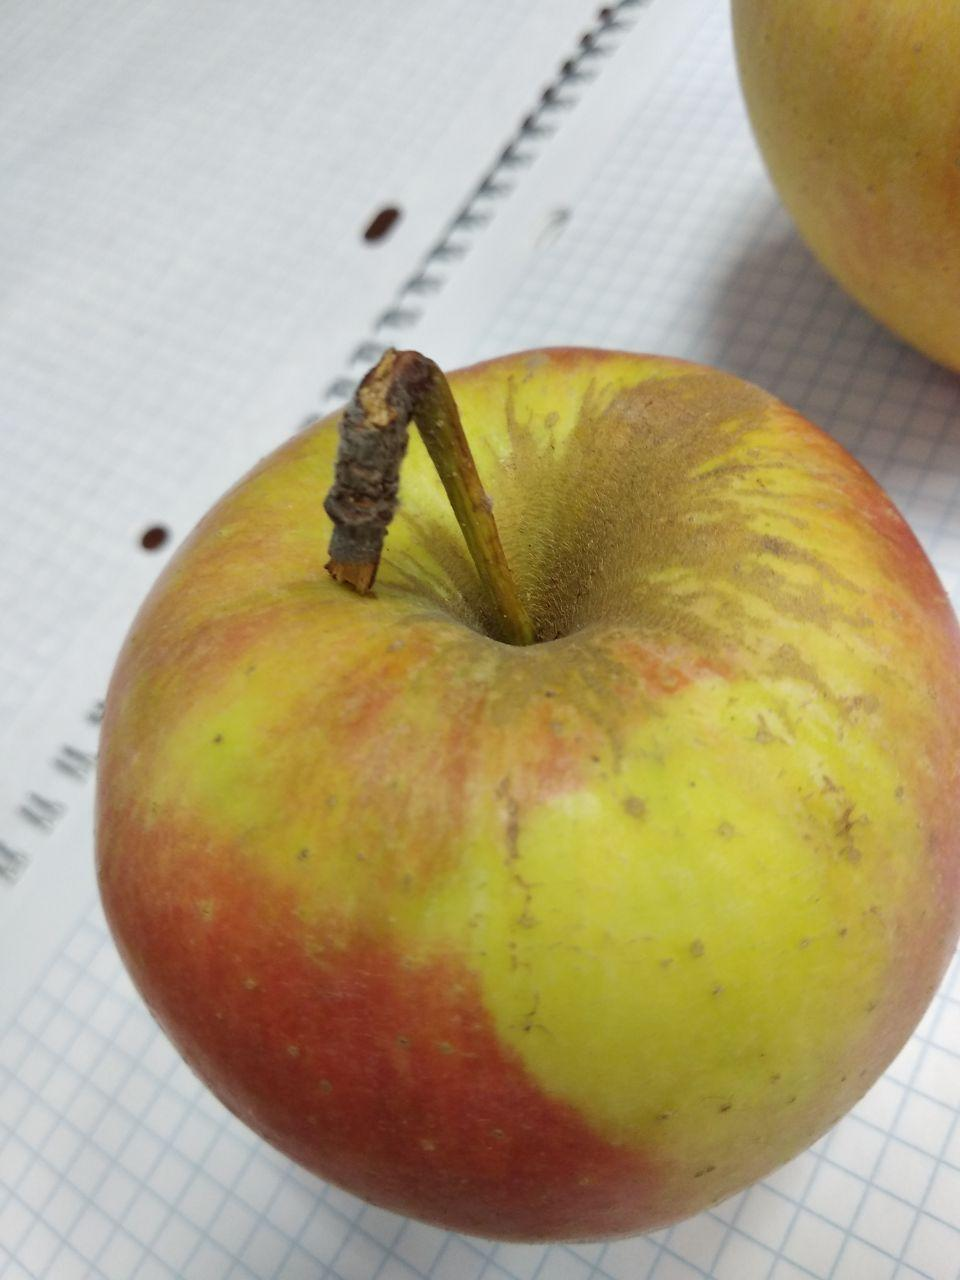Apple: (93, 349, 960, 1247)
